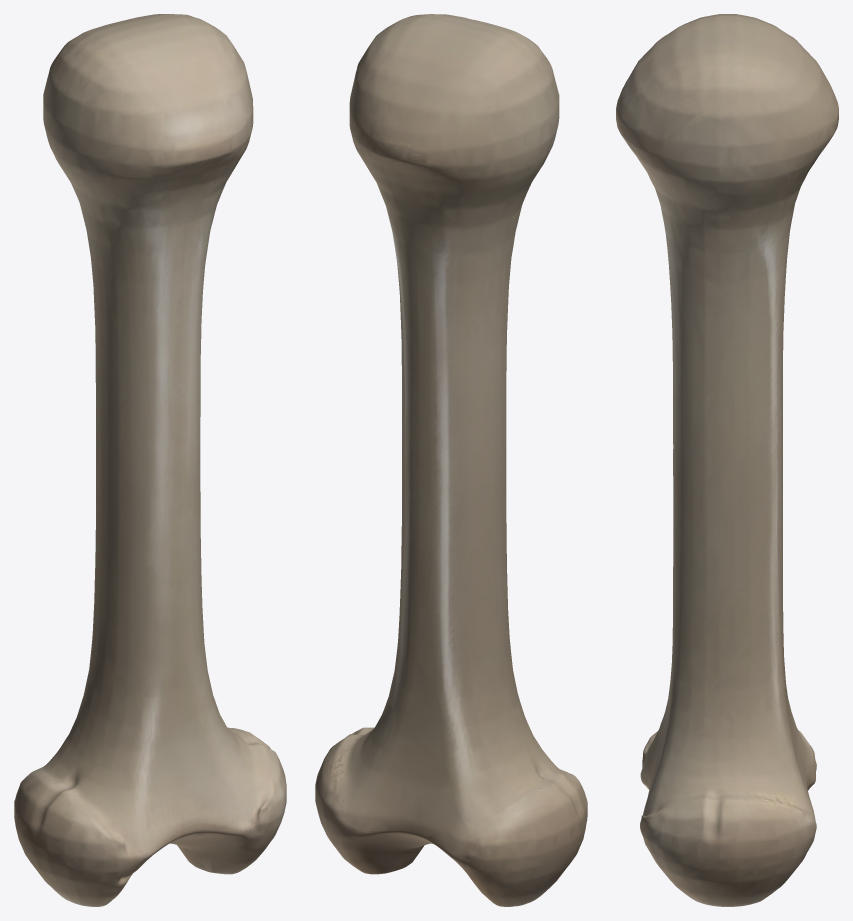
The model's file is dog-femur.glb.
3 renders of one model, left to right at view 1: azimuth 30°, elevation 25°; view 2: azimuth 150°, elevation 25°; view 3: azimuth 270°, elevation 25°, orthographic. The views are drawn at different scales.
Parts seen in each view (by area): view 1: model; view 2: model; view 3: model.
Boxes of the visible parts, x1,y1,x2,y2 form: model: [14, 14, 286, 906]; model: [315, 14, 587, 906]; model: [616, 14, 838, 906].
Size of the model in its own units: 0.5796 by 1.9 by 0.461.
Materials: 1 (1 with a texture image).
